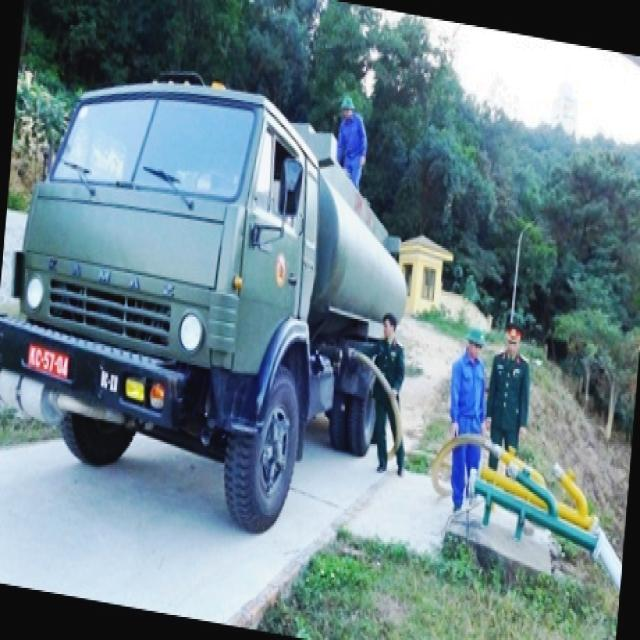license_plate: (28, 343, 70, 380)
